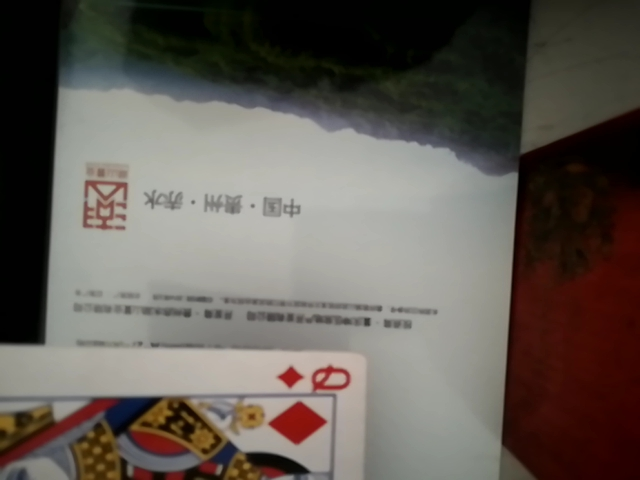fk q: (0, 342, 382, 478)
